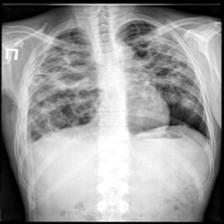tuberculosis: (7, 18, 221, 191)
